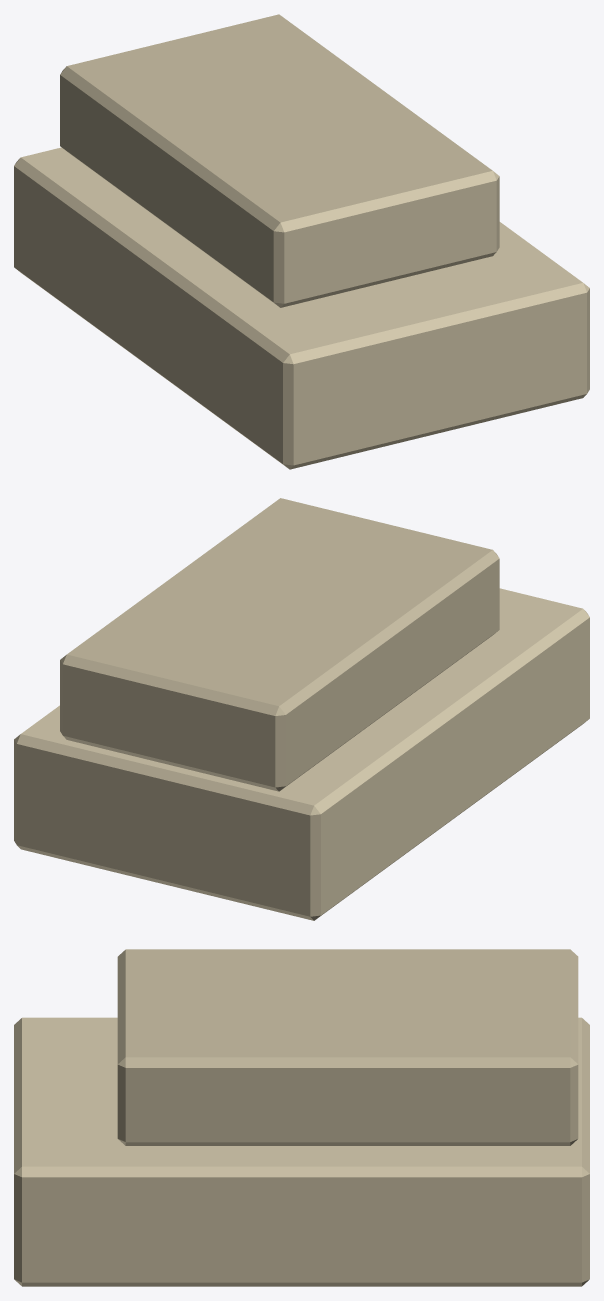
File: crawler_hull_light.glb
The picture shows the model from 3 angles, top to bottom: view 1: azimuth 30°, elevation 25°; view 2: azimuth 150°, elevation 25°; view 3: azimuth 270°, elevation 25°; orthographic projection. The views are drawn at different scales.
Visible parts, largest first — view 1: crawler_hull_light; view 2: crawler_hull_light; view 3: crawler_hull_light.
Part boxes in pixels (x1,y1,x2,y2): crawler_hull_light: (14, 14, 589, 469); crawler_hull_light: (14, 498, 589, 920); crawler_hull_light: (14, 949, 589, 1286).
Size of the model in its own units: 3.2 by 2 by 5.
